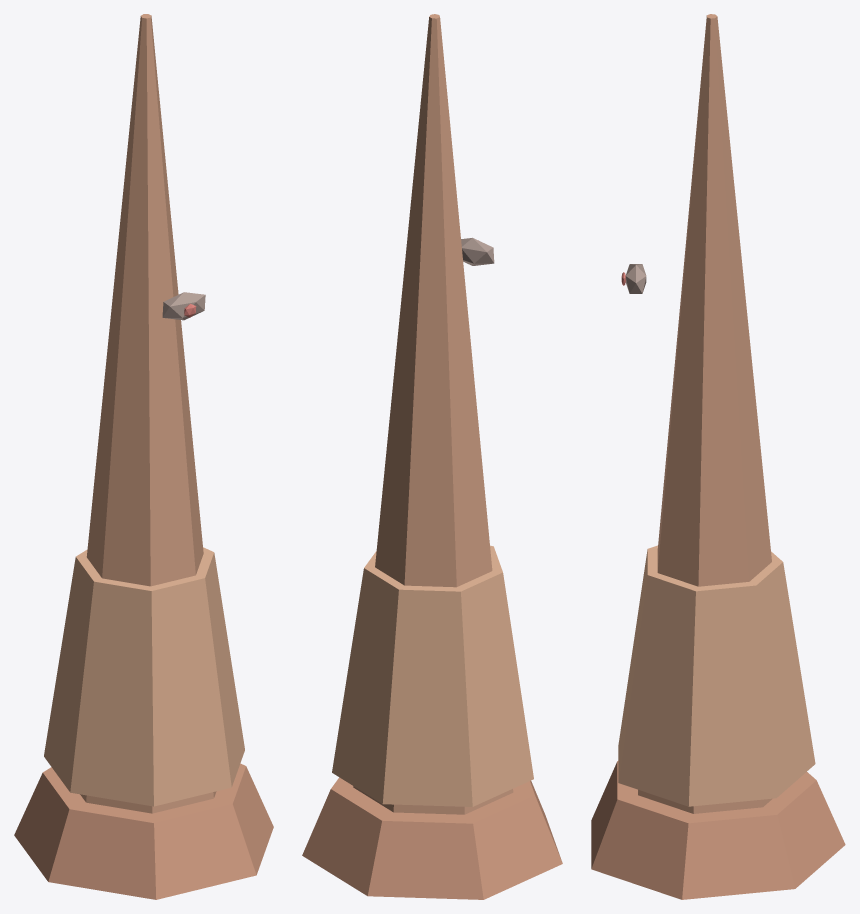
The model's file is needle_spire_near-D8yBqzjn.glb.
3 renders of one model, left to right at view 1: azimuth 30°, elevation 25°; view 2: azimuth 150°, elevation 25°; view 3: azimuth 270°, elevation 25°, orthographic.
Parts seen in each view (by area): view 1: needle_spire_near; view 2: needle_spire_near; view 3: needle_spire_near.
Part boxes in pixels (x1=…): needle_spire_near: x1=14, y1=14, x2=273, y2=899; needle_spire_near: x1=302, y1=14, x2=562, y2=899; needle_spire_near: x1=591, y1=14, x2=845, y2=899.
Size of the model in its own units: 11.7 by 41 by 11.41.
